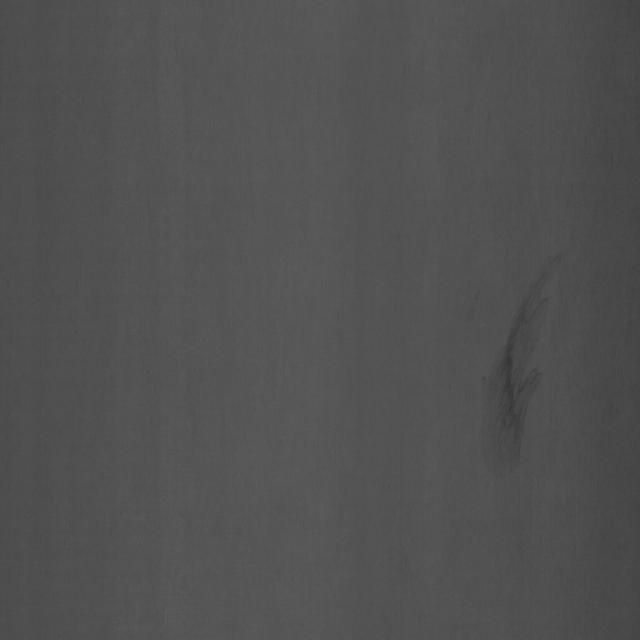water_spot: (470, 228, 564, 484)
